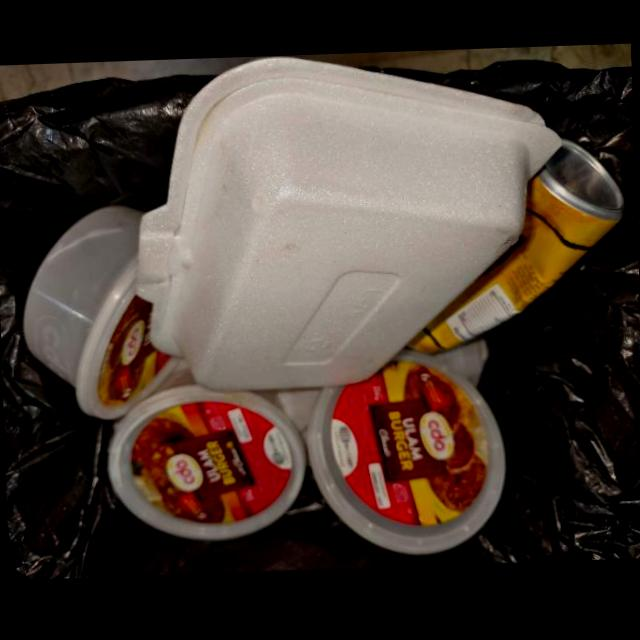hop_nhua: (304, 348, 506, 554), (108, 365, 310, 541), (21, 202, 170, 420)
nhom: (397, 135, 625, 356)
xop: (135, 55, 563, 391)
